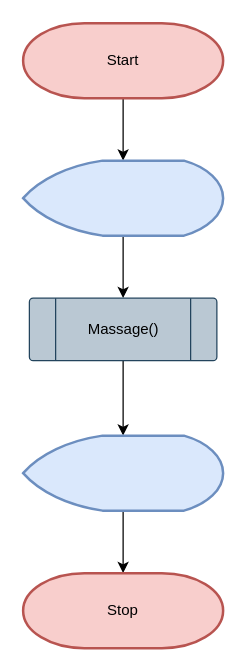
This 245x670 diagram has some shape labels left out. Here are the shapes that lost their labels. From the top down, the centre of each, then its label:
At pixel 122 197: "'I have a message for you.'".
At pixel 122 472: "'Goodbye'".
